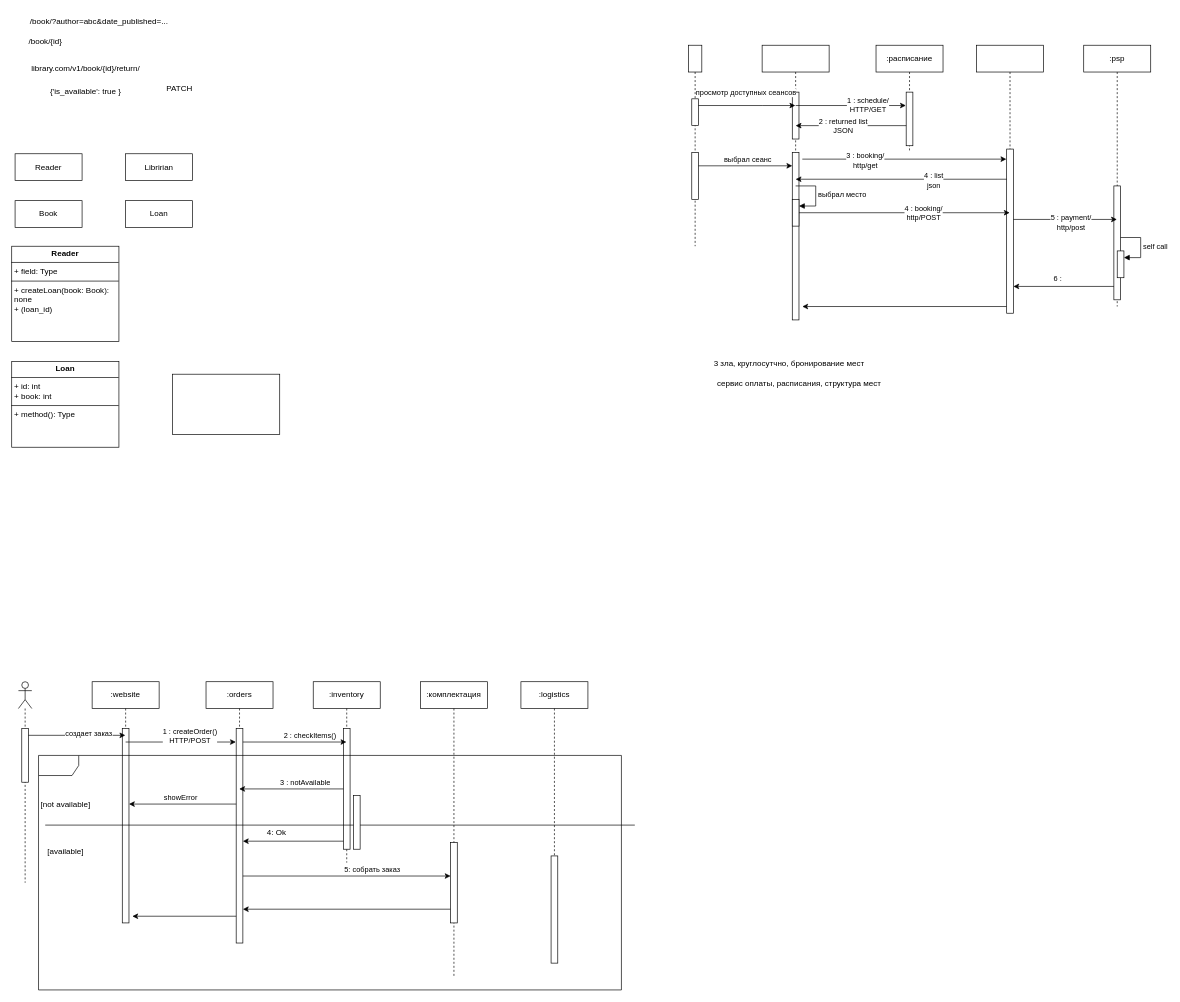
Image size: 1180x1002. Some labels were removed from this diagram. The box of each missing label's shape, as (x1, y1, x2, y2) in pixels:
:сайт: (761, 45, 829, 320)
:структура мест: (976, 45, 1044, 313)
alt: (38, 755, 621, 990)
Book + id: int + available: bool + checkAvailability(id: int): bool: (172, 374, 280, 434)
